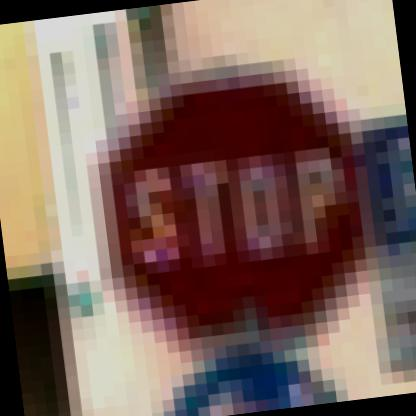stop: (92, 53, 372, 350)
